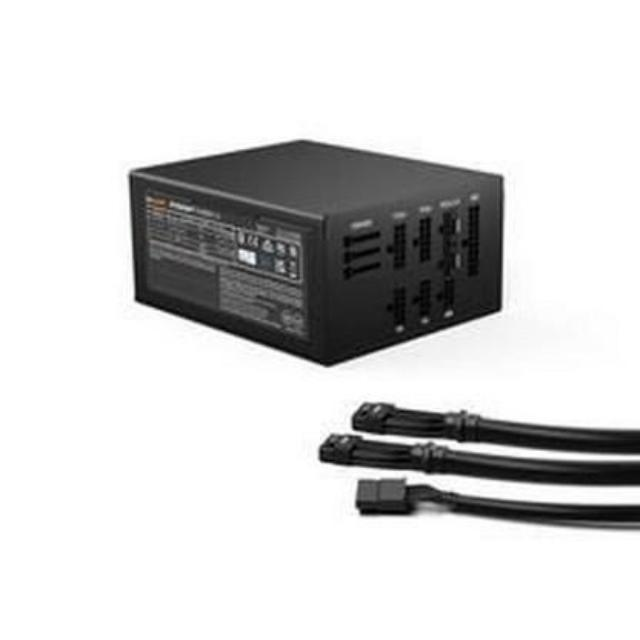PSU: (119, 121, 534, 376)
